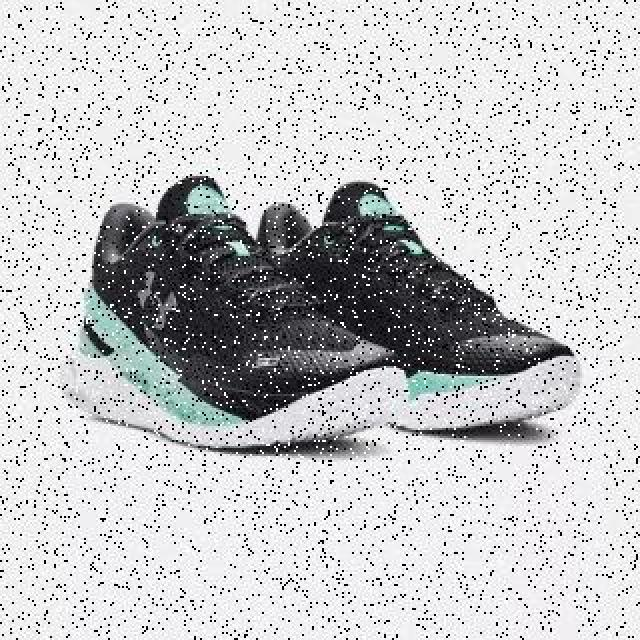shoe: (61, 175, 411, 449), (237, 180, 583, 436)
